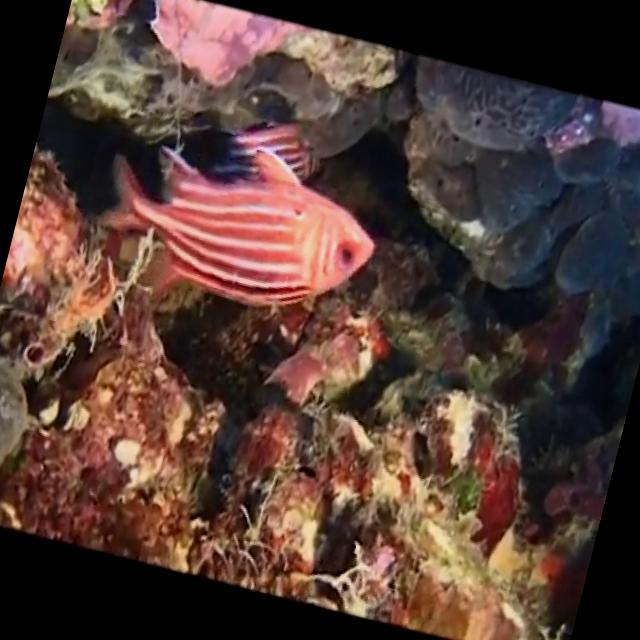Asker Baligi: (82, 80, 400, 340)
